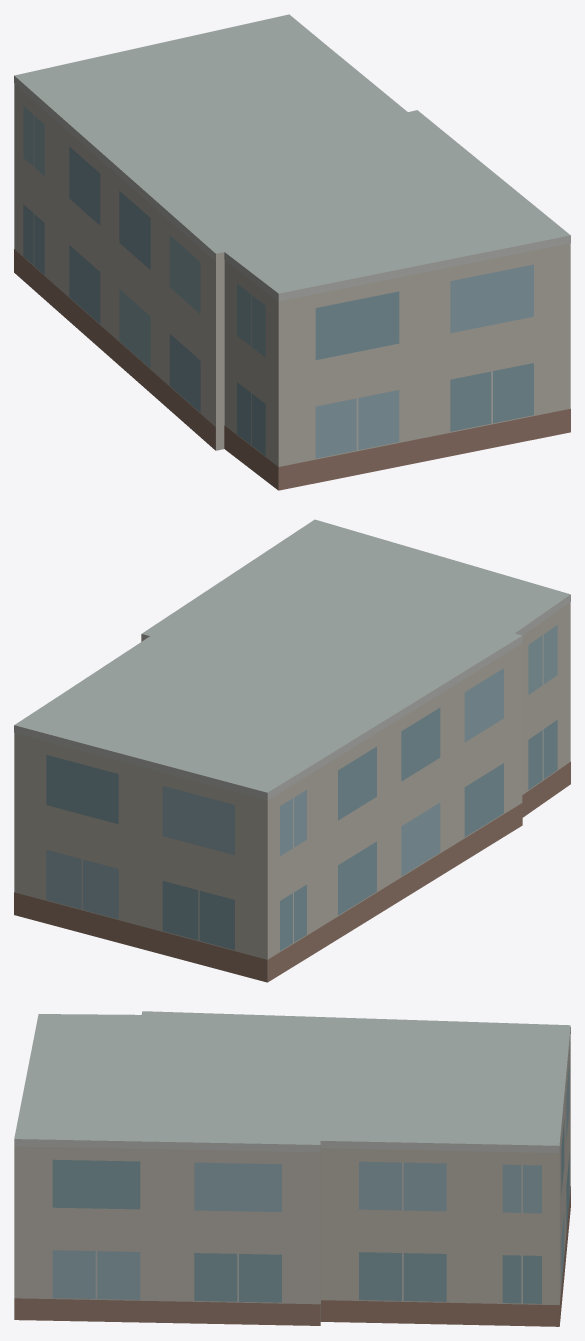
File: survey-upis-32805352.glb
3 views of the same model, one above another, from view 1: azimuth 30°, elevation 25°; view 2: azimuth 150°, elevation 25°; view 3: azimuth 270°, elevation 25° (orthographic). The views are drawn at different scales.
Visible parts, largest first — view 1: survey-upis-32805352.tmp; view 2: survey-upis-32805352.tmp; view 3: survey-upis-32805352.tmp.
Part boxes in pixels (x1,y1,x2,y2): survey-upis-32805352.tmp: [14, 14, 570, 490]; survey-upis-32805352.tmp: [14, 519, 570, 982]; survey-upis-32805352.tmp: [14, 1011, 570, 1326].
Size of the model in its own units: 9.75 by 6.1 by 17.02.
